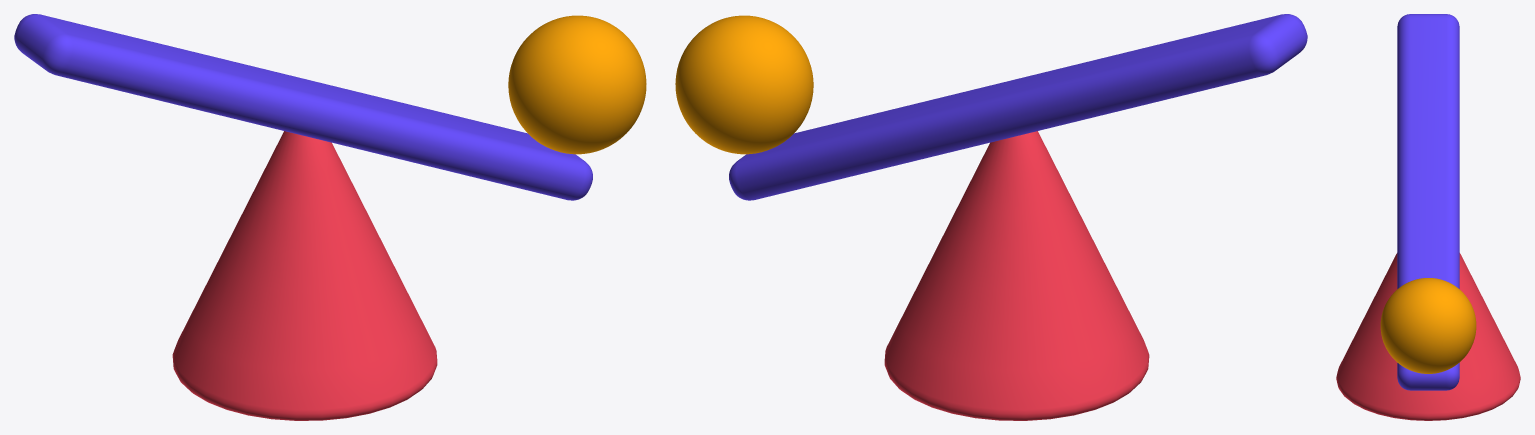
Rendered from balancing-loading-animated-3d-icon-1654869618938.glb.
3 renders of one model, left to right at view 1: azimuth 30°, elevation 25°; view 2: azimuth 150°, elevation 25°; view 3: azimuth 270°, elevation 25°, orthographic. The views are drawn at different scales.
Visible parts, largest first — view 1: Cone.001, Slide, Sphere.001; view 2: Cone.001, Slide, Sphere.001; view 3: Slide, Cone.001, Sphere.001.
Part boxes in pixels (<box>): Cone.001: <box>172,131,437,420</box>; Slide: <box>14,14,592,200</box>; Sphere.001: <box>508,15,646,154</box>; Cone.001: <box>884,131,1149,420</box>; Slide: <box>729,14,1307,200</box>; Sphere.001: <box>675,15,813,154</box>; Slide: <box>1397,14,1459,390</box>; Cone.001: <box>1336,253,1520,420</box>; Sphere.001: <box>1380,278,1476,373</box>.
Size of the model in its own units: 2.03 by 1.3 by 0.7663.
